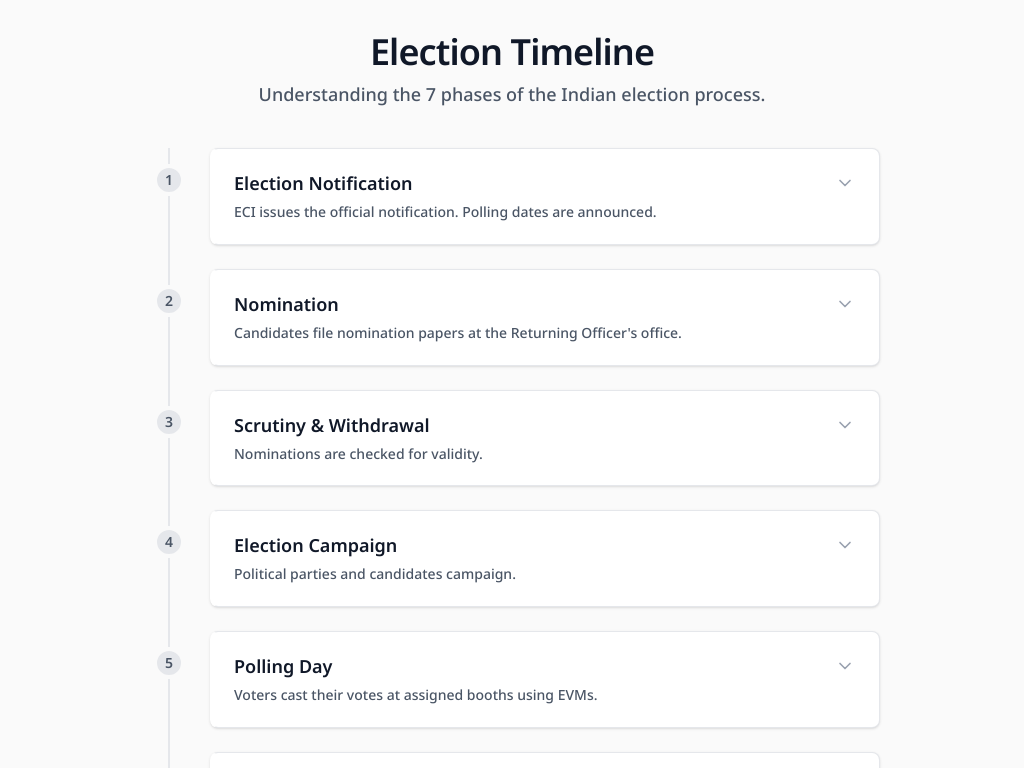
it: Timeline Page › expands a phase card on click
Click the button that starts with "Election Notification" at (323, 183), box left=210, top=148, right=880, bottom=245
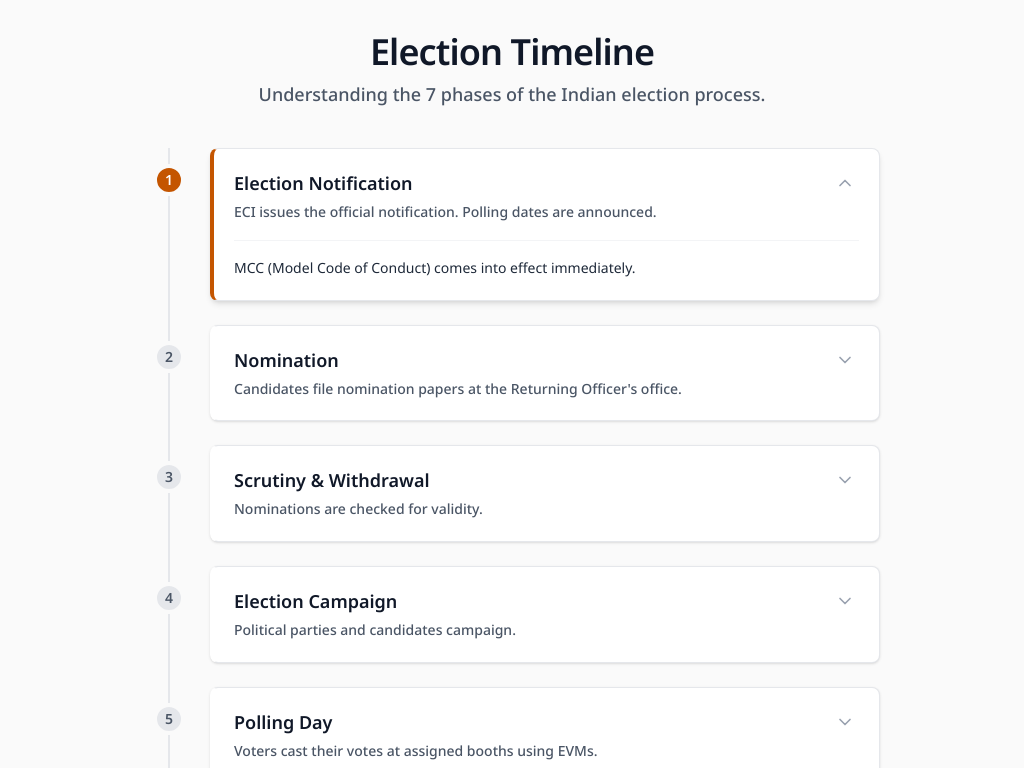
Expected: the button that starts with "Election Notification" is expanded, left=210, top=148, right=880, bottom=300
